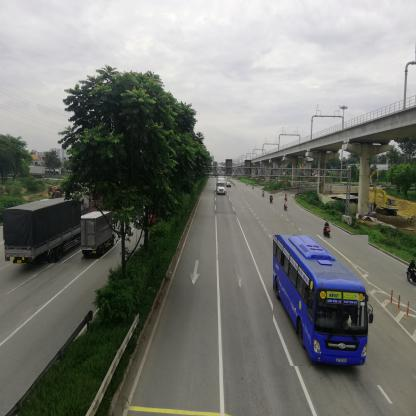bus: (274, 236, 369, 367)
car: (228, 183, 233, 188)
container: (219, 178, 226, 196)
motorbike: (324, 223, 333, 241), (411, 260, 416, 285), (284, 203, 289, 213), (271, 197, 275, 206), (285, 194, 288, 200), (263, 193, 266, 198)
truck: (6, 202, 82, 264), (79, 213, 118, 260)
